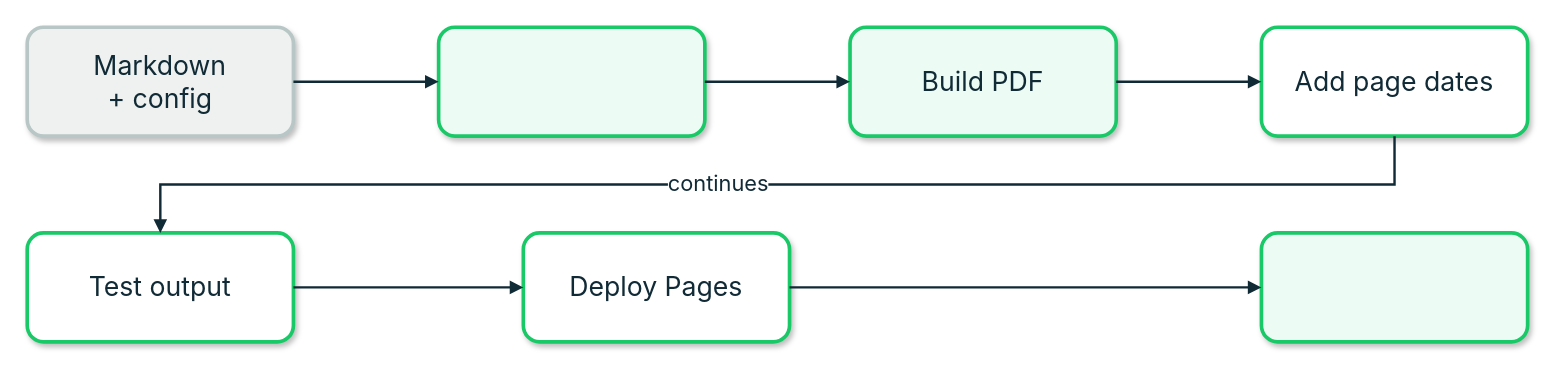
Image size: 1557x373. Some labels were removed from this diagram. Each missing label, with the centre of its shape:
"Build website" belongs at [572,83].
"Verify live site" belongs at [1395,289].
